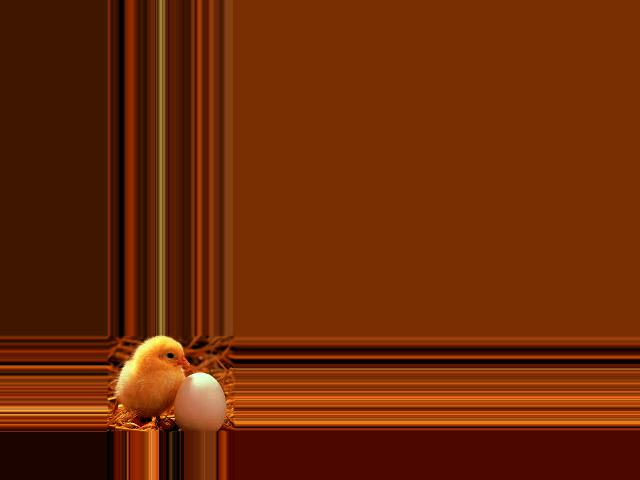egg: (173, 372, 225, 432)
